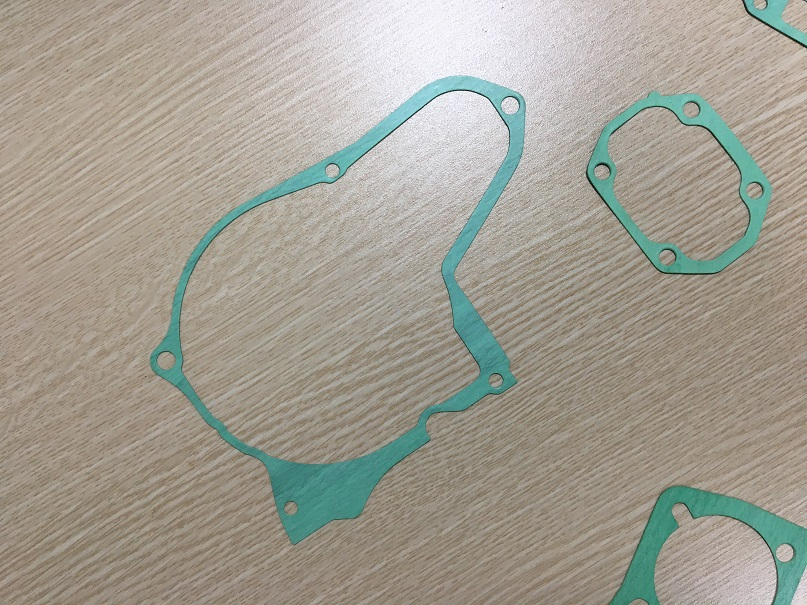type1: (132, 66, 554, 548)
type2: (582, 86, 773, 279)
